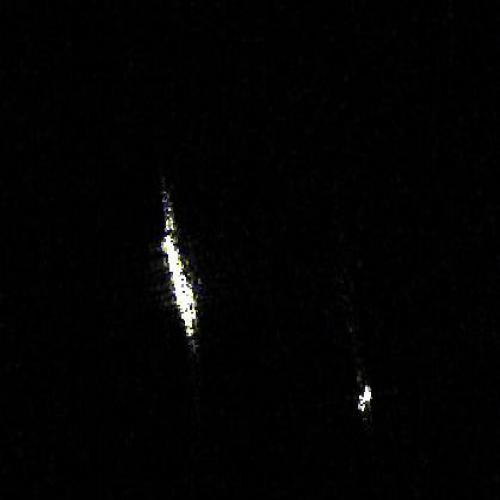ship: (159, 230, 197, 339), (356, 384, 373, 414)
